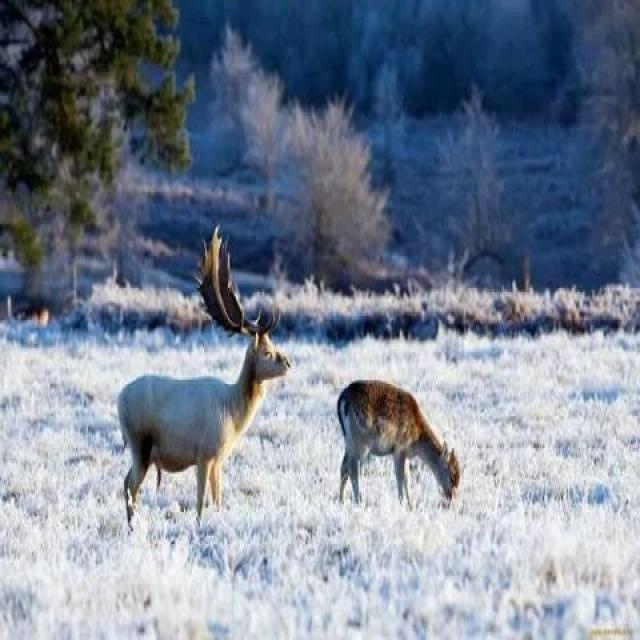deer: (100, 233, 302, 547), (334, 365, 466, 534)
